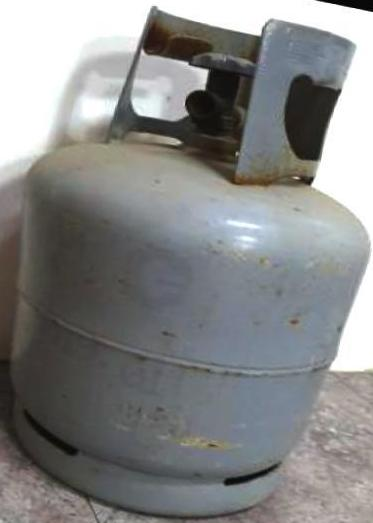cylinder: (1, 1, 373, 523)
